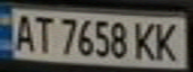5: (90, 17, 112, 59)
6: (75, 17, 96, 57)
7: (54, 15, 78, 55)
8: (109, 19, 130, 60)
A: (9, 11, 36, 53)
K: (151, 19, 184, 63), (130, 19, 160, 62)
T: (30, 12, 57, 54)
